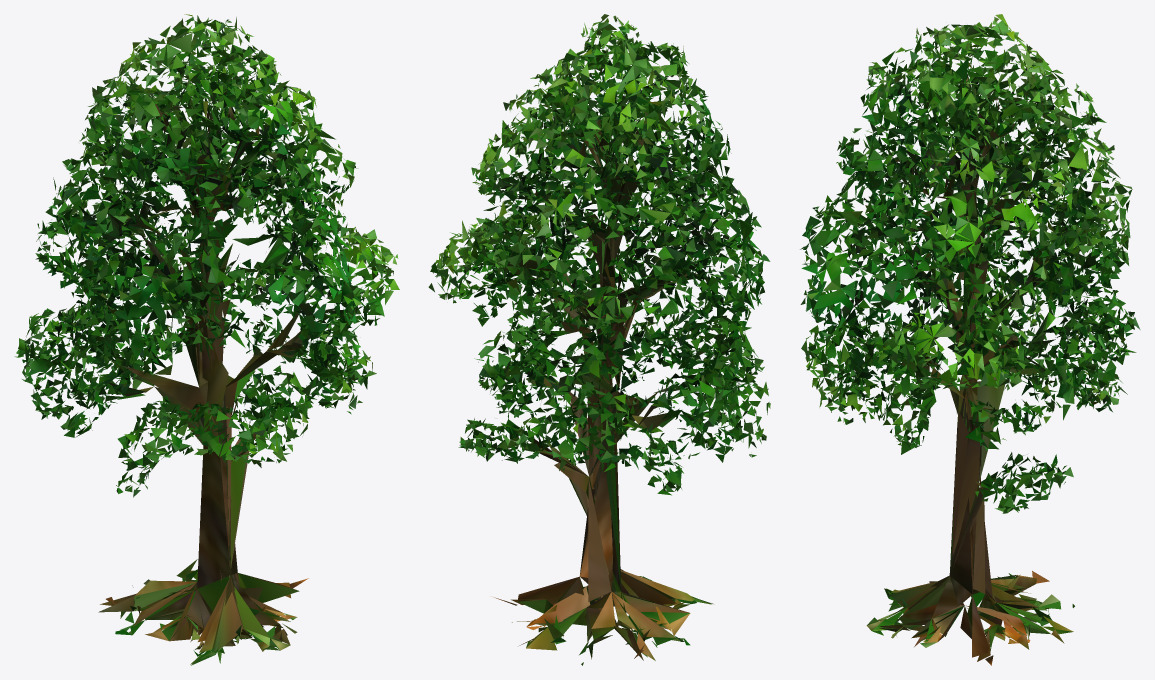
File: meshy-tree-m0.glb
3 renders of one model, left to right at view 1: azimuth 30°, elevation 25°; view 2: azimuth 150°, elevation 25°; view 3: azimuth 270°, elevation 25°, orthographic.
Parts seen in each view (by area): view 1: Mesh_0; view 2: Mesh_0; view 3: Mesh_0.
Part boxes in pixels (x1=…): Mesh_0: x1=14, y1=14, x2=399, y2=665; Mesh_0: x1=428, y1=14, x2=770, y2=665; Mesh_0: x1=800, y1=14, x2=1140, y2=665.
Size of the model in its own units: 1.09 by 1.94 by 0.9839.
Materials: 1 (1 with a texture image).
